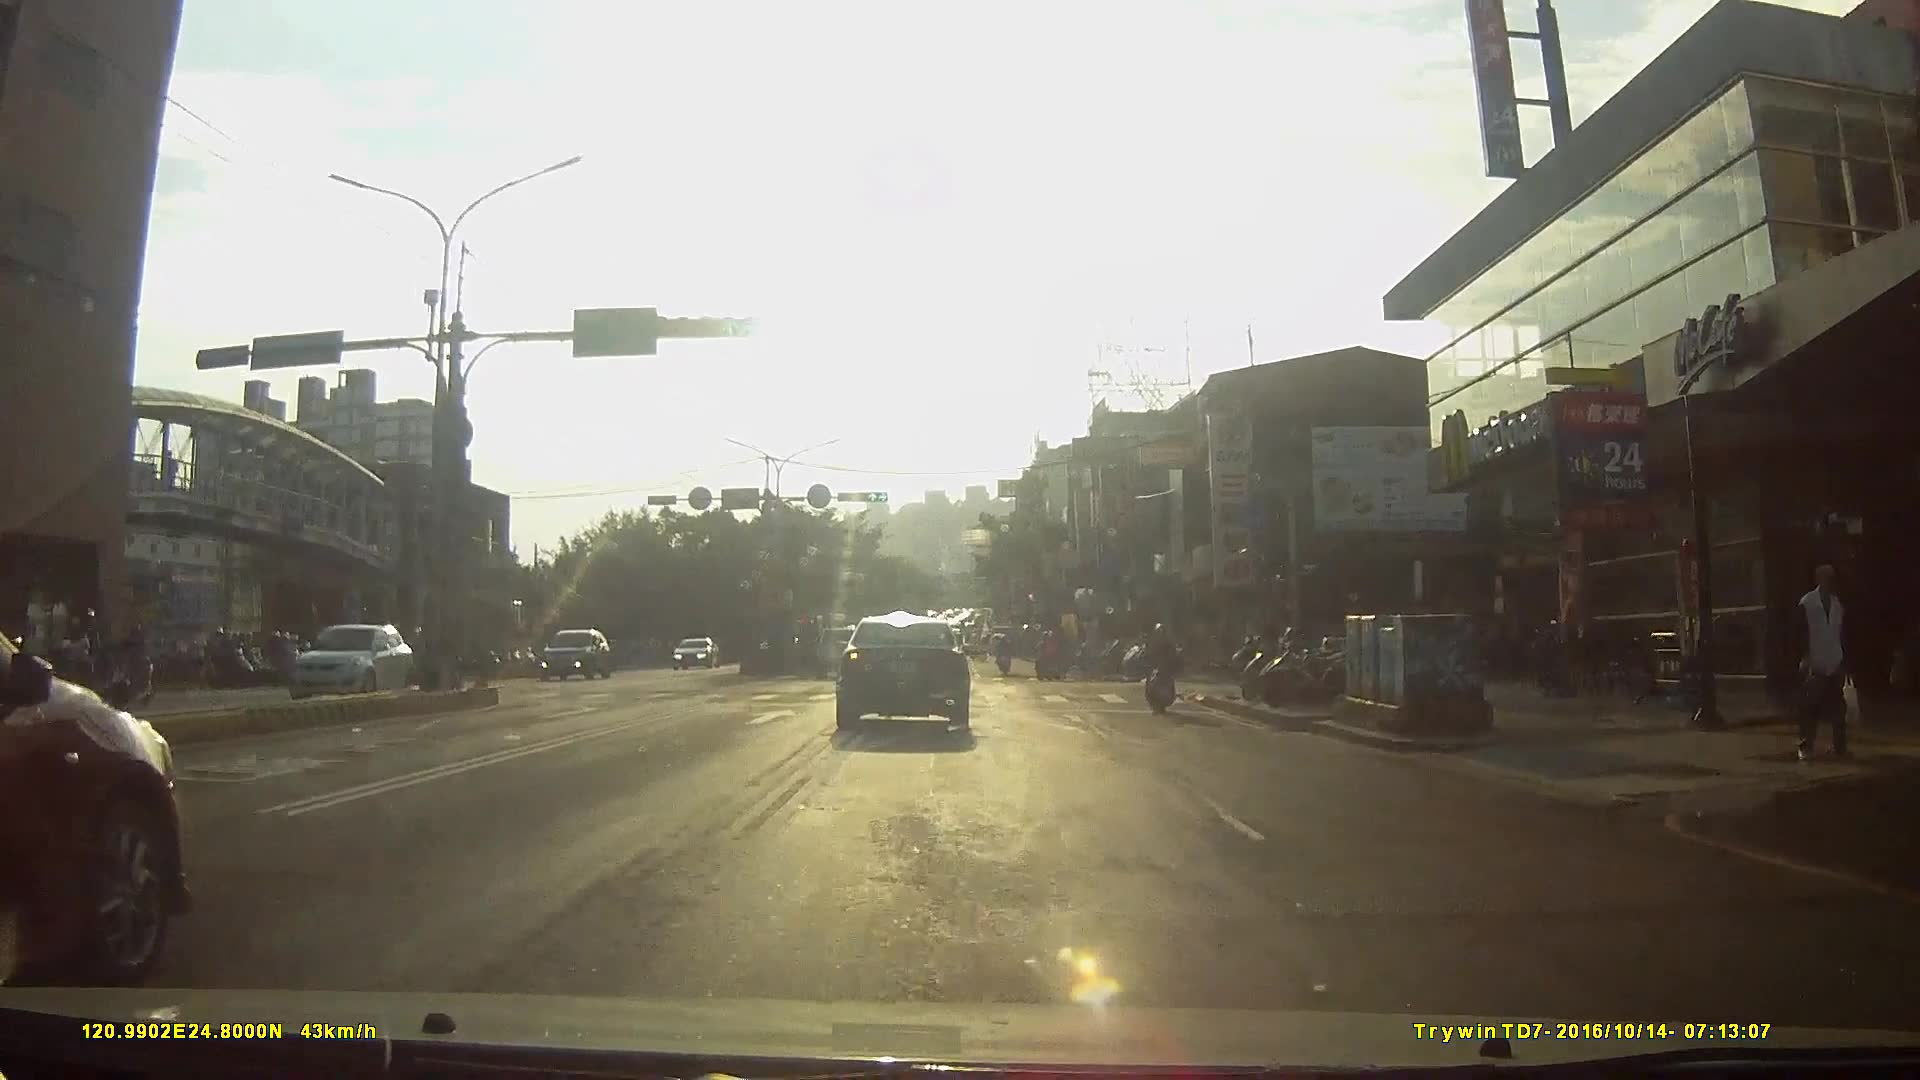pedestrian: (1786, 559, 1864, 767)
rider: (54, 611, 116, 714), (100, 620, 151, 707), (1142, 617, 1181, 715), (202, 626, 260, 690), (1036, 629, 1064, 680), (994, 633, 1014, 677)
vehicle: (1, 602, 197, 1002), (833, 608, 989, 735), (287, 621, 423, 711), (539, 629, 617, 686), (814, 617, 873, 672), (668, 633, 723, 671)
